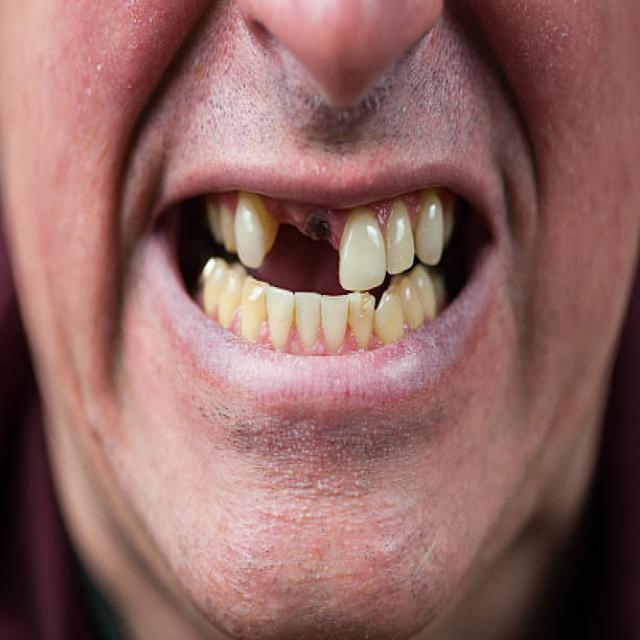caries: (308, 211, 337, 253)
